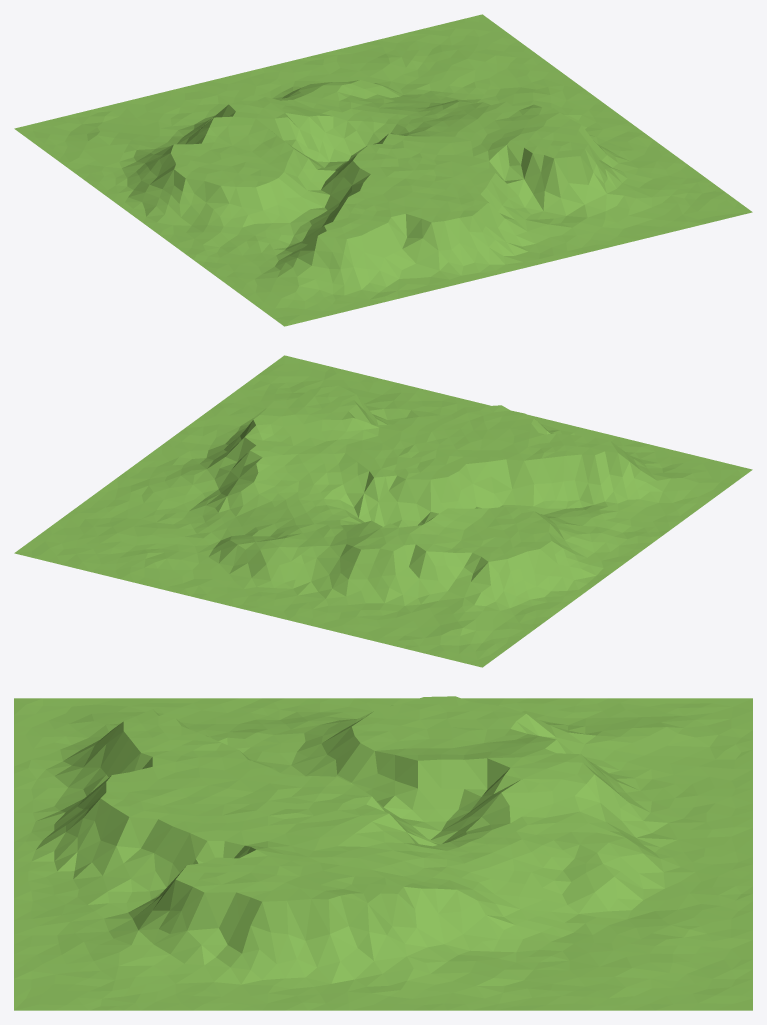
File: MT_Terrain_L_d_02.fbx
The picture shows the model from 3 angles, top to bottom: view 1: azimuth 30°, elevation 25°; view 2: azimuth 150°, elevation 25°; view 3: azimuth 270°, elevation 25°; orthographic projection. The views are drawn at different scales.
Visible parts, largest first — view 1: MT_Terrain_L_d_02; view 2: MT_Terrain_L_d_02; view 3: MT_Terrain_L_d_02.
Boxes of the visible parts, x1,y1,x2,y2 form: MT_Terrain_L_d_02: (14, 14, 752, 326); MT_Terrain_L_d_02: (14, 355, 752, 667); MT_Terrain_L_d_02: (14, 696, 752, 1010).
Size of the model in its own units: 10000 by 844 by 10000.
